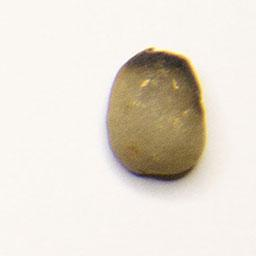defect: (102, 43, 209, 184)
